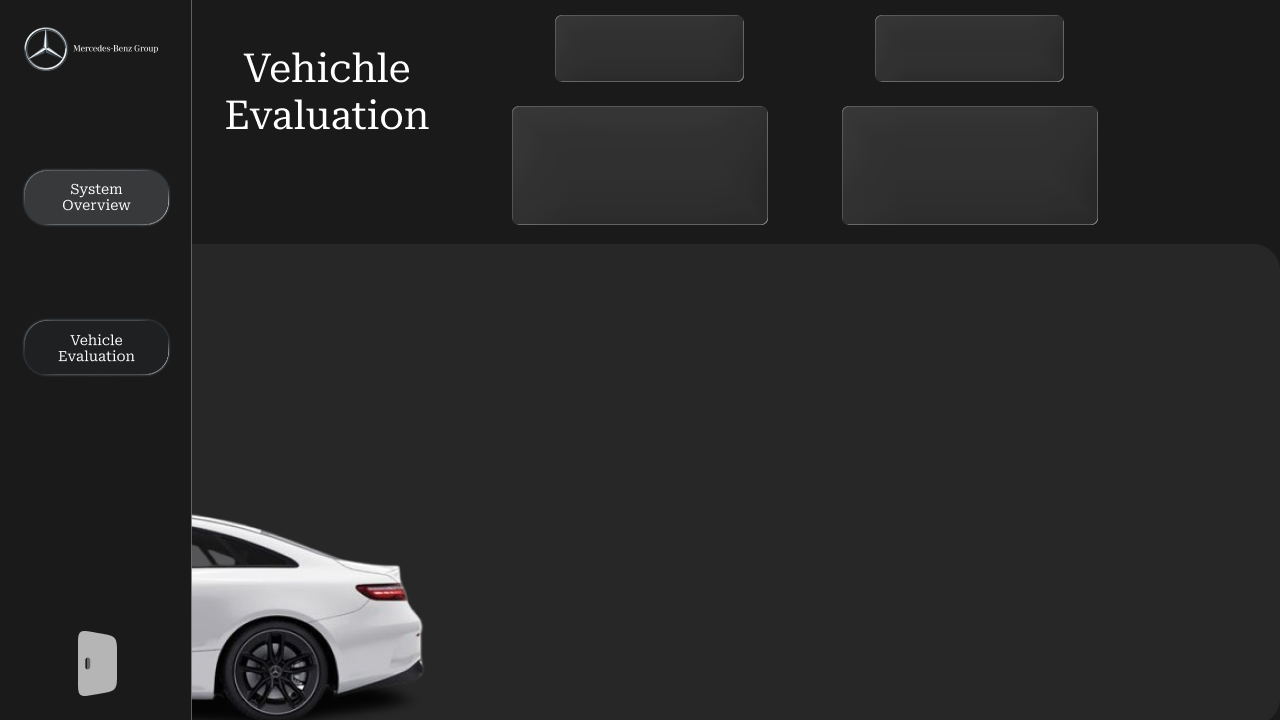

This screenshot's page, from the dashboard's own definition file:
{"tool":"powerbi","page":{"name":"Landing","canvas":[1280,720],"ordinal":0},"visuals":[{"type":"actionButton","box":[296.7,551.5,219.8,97.3],"z":0},{"type":"actionButton","box":[765.5,551.5,219.8,97.3],"z":1000}]}

Visuals, with their boxes in screenshot pixels (x1, y1, x2, y2), scaled from the page's 1280x720 canvas onto the 1280x720 screenshot:
actionButton: left=297, top=552, right=516, bottom=649
actionButton: left=766, top=552, right=985, bottom=649
